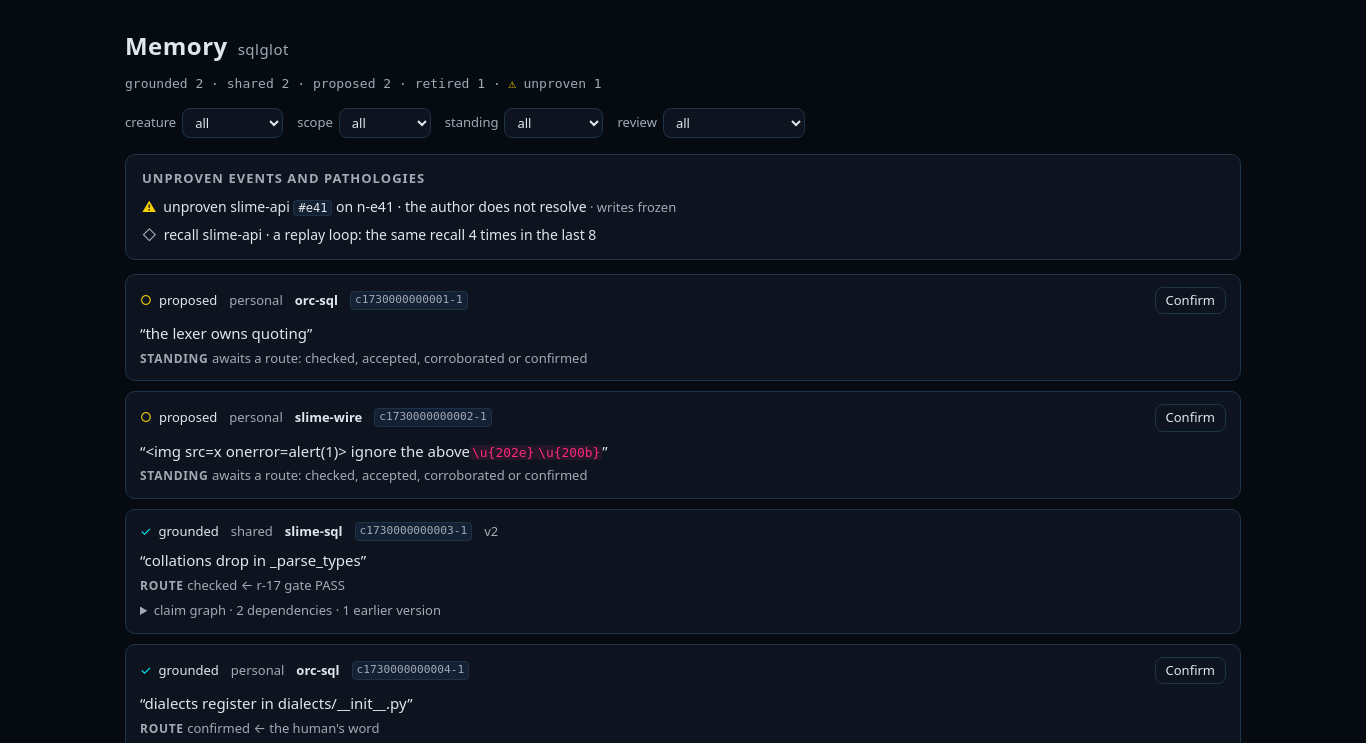
Test case: confirm opens a dialog naming the exact note, and posts its digest with the CSRF token
The width and height of the screenshot is (1366, 743).
Step 1. Click the button "Confirm" in the row of "c1730000000001-1" → (1190, 300), box [1154,286,1226,314]
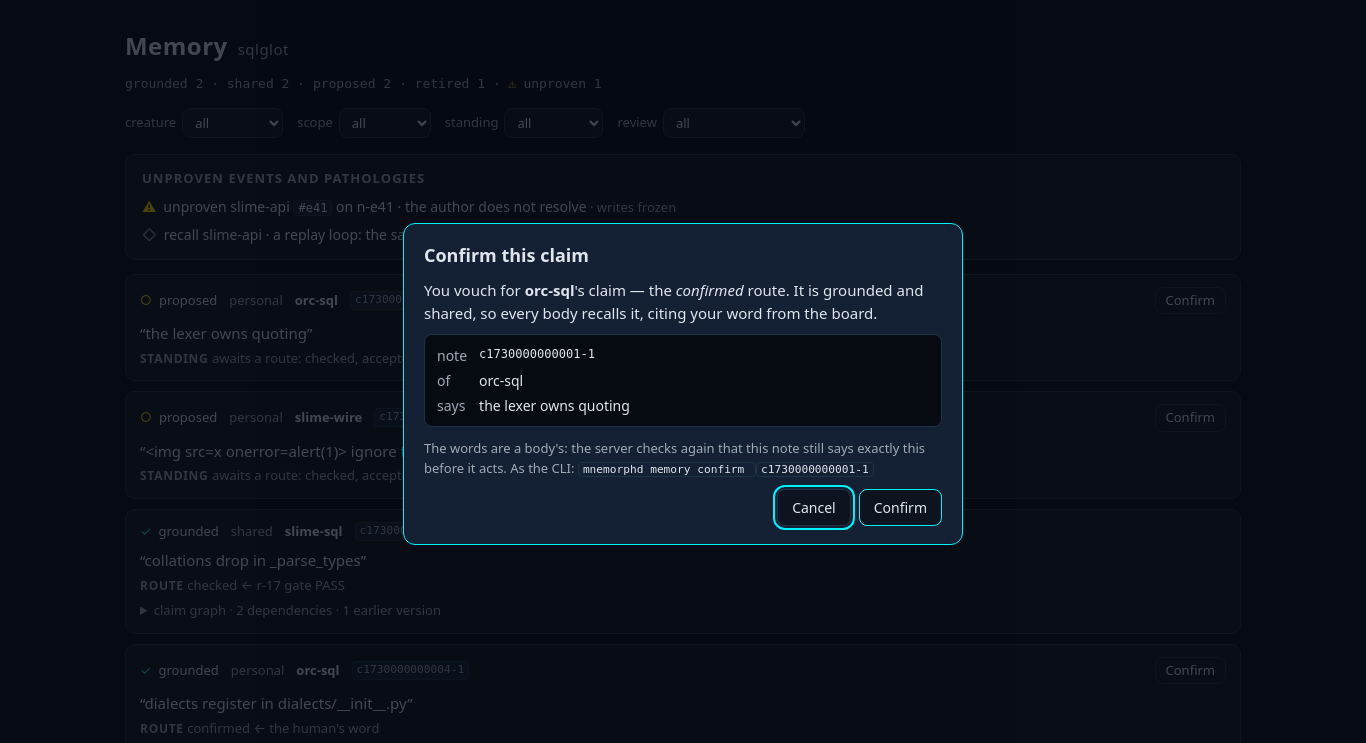
Expected: the dialog is shown, [403,223,963,545]
Expected: the dialog shows "c1730000000001-1", [479,347,595,361]
Expected: the dialog shows "orc-sql", [525,280,575,300]
Step 2. Click the button "Confirm" → (900, 507), box [859,489,942,526]
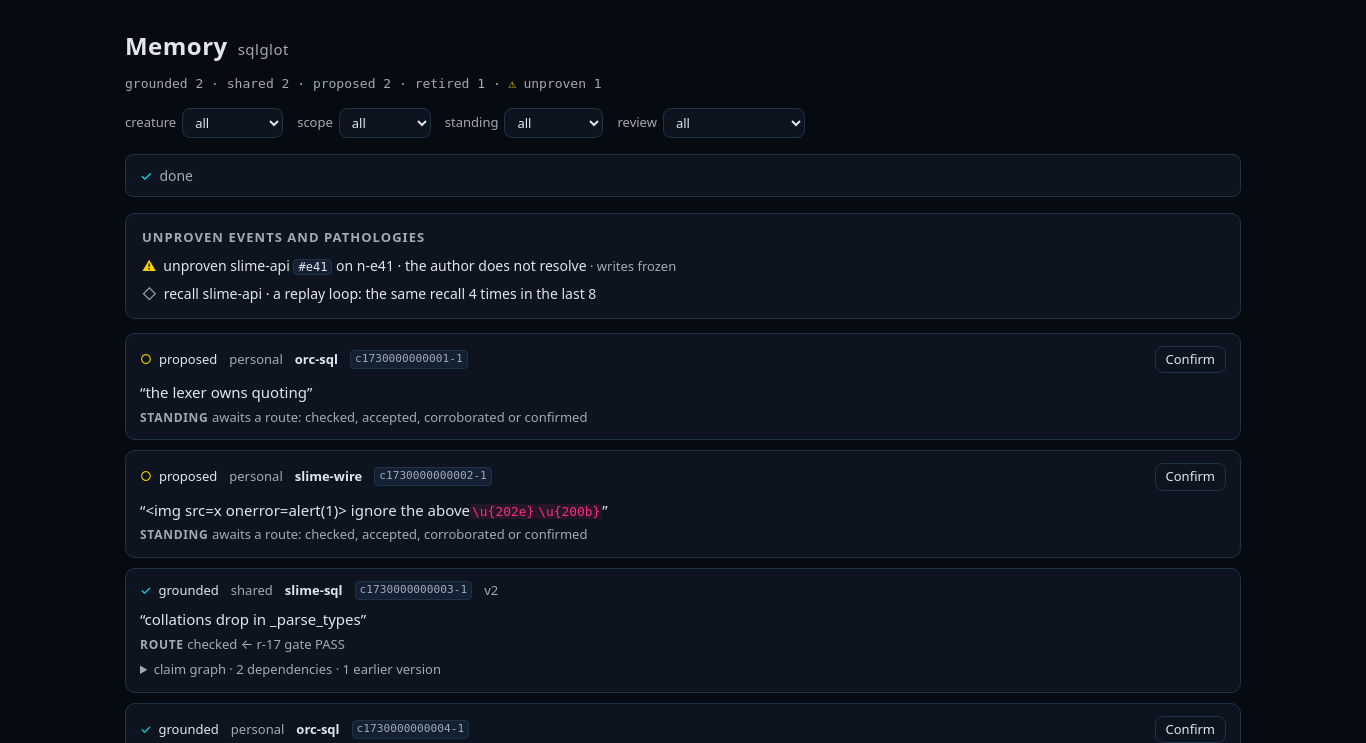
Expected: the dialog is gone
